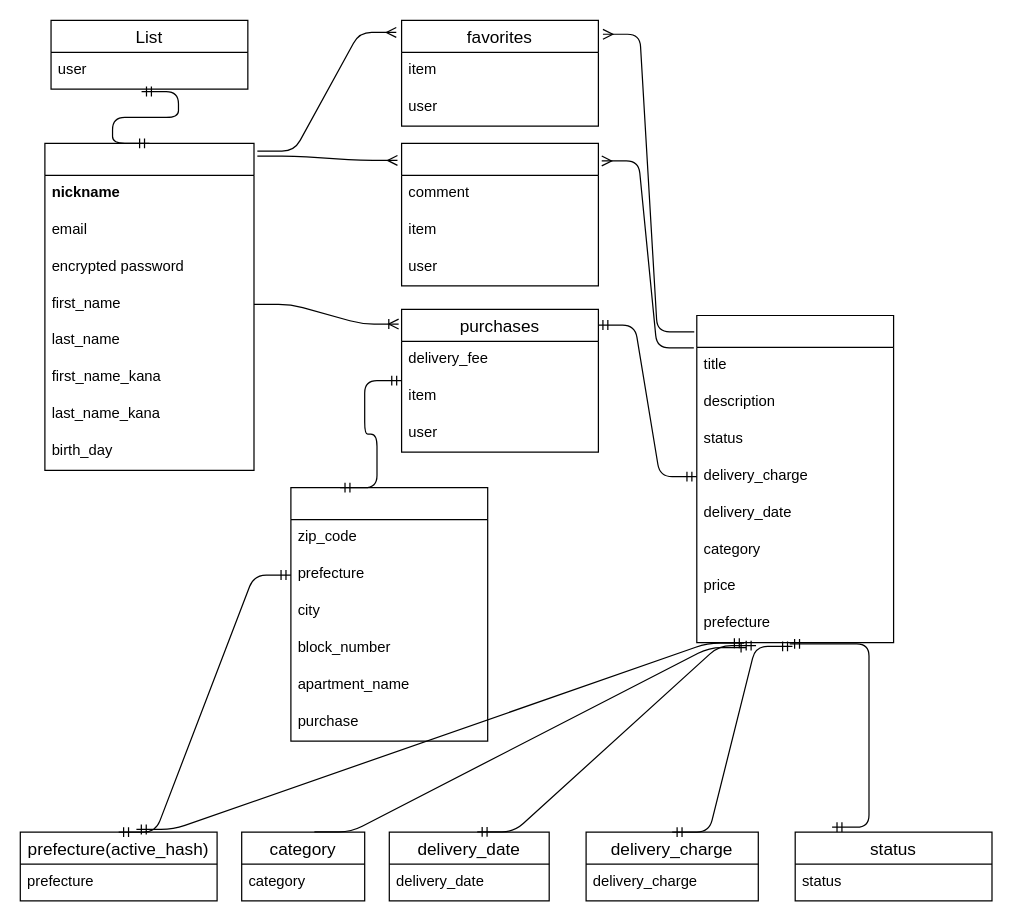
Image size: 1012x921. Some labels were removed from this diagram. Each missing label, with the box of its shape:
addresses: (290, 486, 488, 741)
comments: (400, 142, 598, 286)
items: (696, 314, 894, 643)
users: (44, 142, 254, 470)
